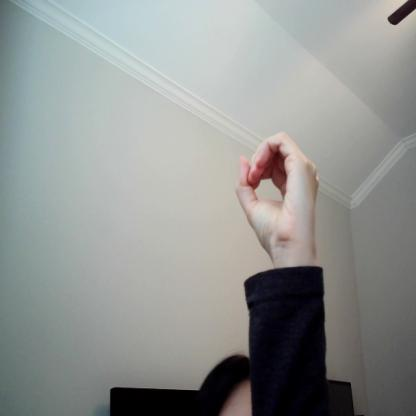zero: (236, 131, 320, 246)
